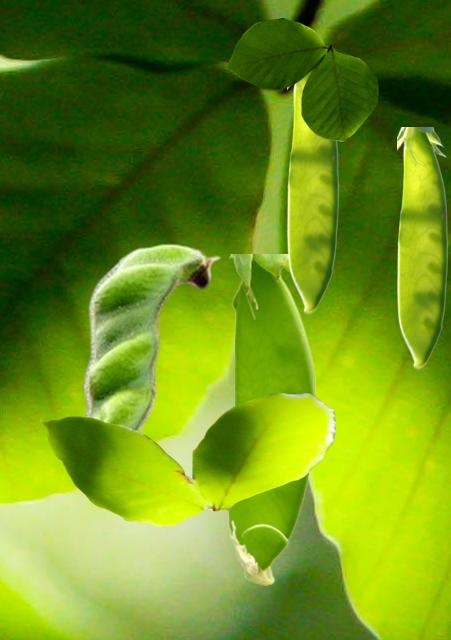pea: (228, 254, 314, 584), (79, 243, 220, 432), (287, 74, 338, 313), (397, 127, 447, 368)
